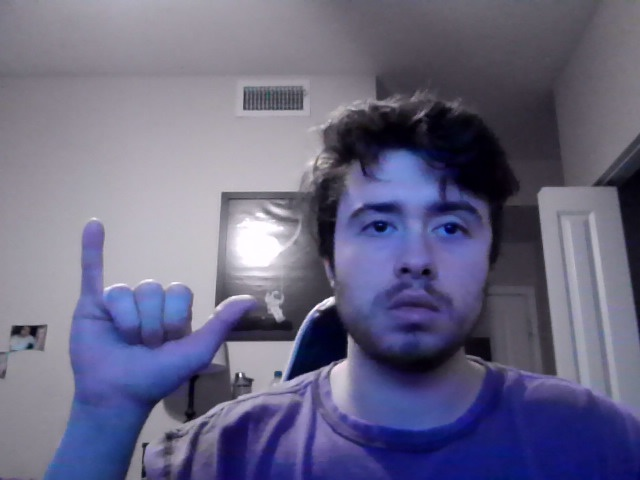y: (68, 217, 258, 429)
